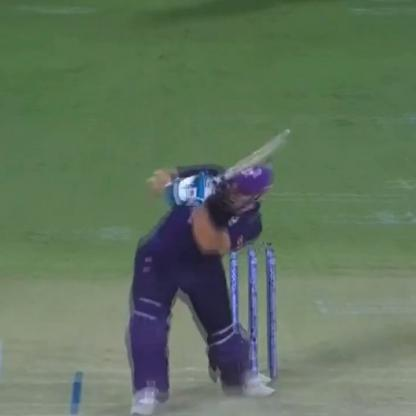bat: (200, 125, 294, 181)
